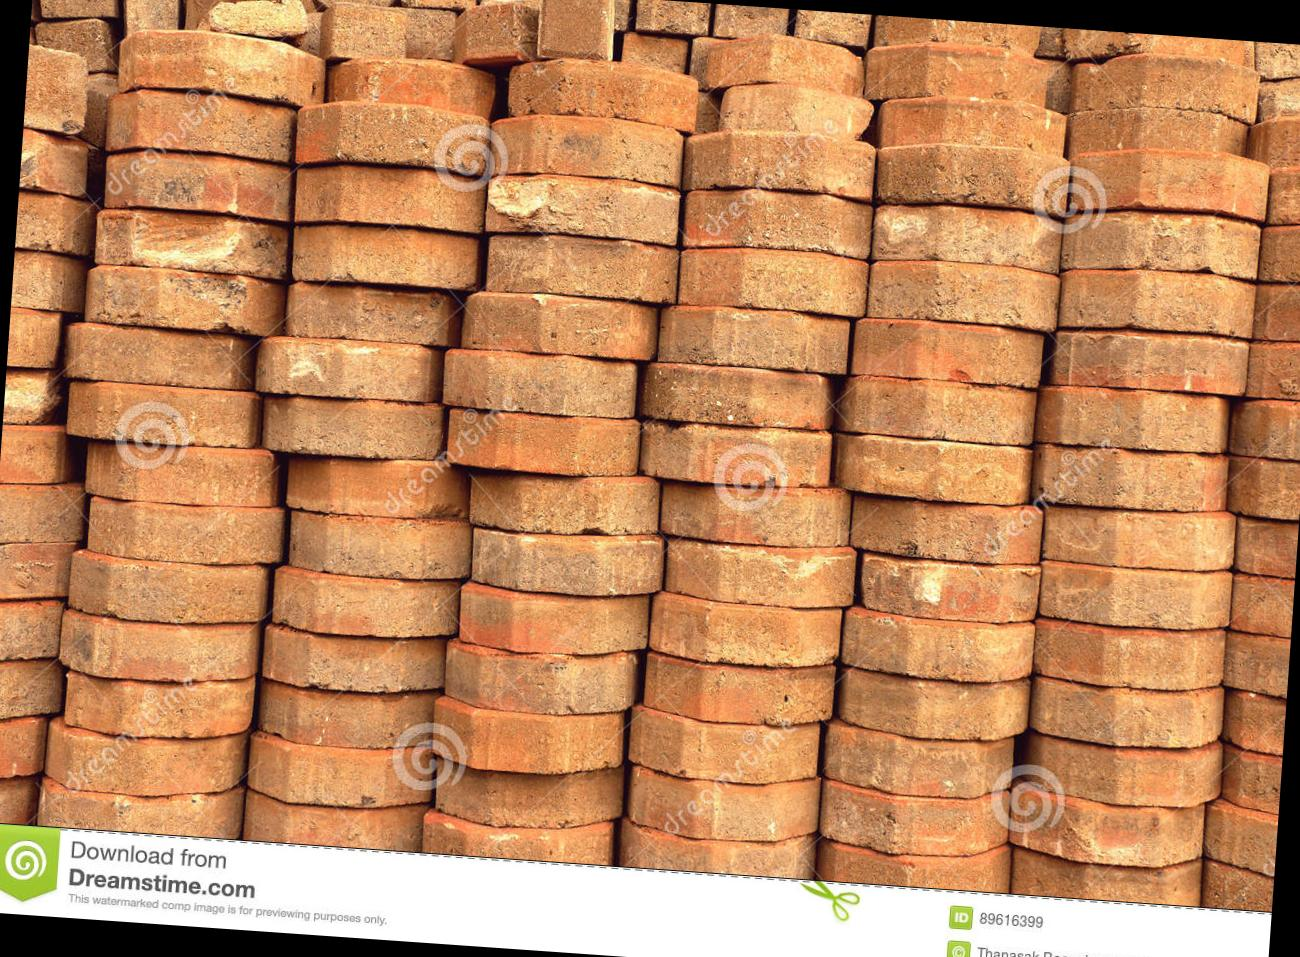brick: (1007, 779, 1206, 870), (117, 25, 326, 106), (1021, 728, 1223, 811), (1069, 140, 1271, 222), (44, 720, 246, 802), (58, 607, 258, 688), (68, 548, 269, 628), (840, 605, 1035, 686), (486, 108, 685, 188), (443, 638, 637, 720), (627, 705, 820, 786), (648, 590, 842, 670), (822, 720, 1014, 801), (818, 779, 1010, 860), (507, 54, 699, 134), (294, 97, 491, 176), (682, 123, 876, 203), (457, 580, 649, 660), (1030, 674, 1225, 752), (876, 138, 1071, 216), (64, 665, 255, 744), (628, 766, 820, 845), (432, 701, 626, 778), (469, 522, 665, 599), (664, 533, 857, 611), (1058, 262, 1256, 338), (87, 494, 285, 569), (246, 731, 433, 811), (849, 490, 1043, 566), (1061, 206, 1260, 281), (433, 756, 624, 834), (485, 170, 681, 245), (867, 256, 1060, 333), (270, 564, 460, 642), (643, 652, 835, 729), (839, 667, 1031, 744), (1032, 618, 1225, 694), (681, 184, 874, 259), (1043, 498, 1235, 573), (468, 464, 660, 540), (460, 288, 657, 361), (1051, 324, 1249, 397), (1031, 442, 1228, 515), (659, 475, 851, 550), (441, 346, 638, 419), (84, 263, 283, 335), (105, 87, 296, 162), (484, 230, 679, 303), (871, 200, 1063, 274), (294, 161, 485, 234), (1038, 559, 1231, 632), (94, 207, 290, 279), (841, 374, 1037, 445), (835, 433, 1031, 505), (850, 315, 1043, 388), (445, 408, 640, 480), (677, 243, 869, 316), (84, 437, 278, 509), (657, 302, 850, 374), (1037, 383, 1229, 454), (66, 378, 258, 449), (639, 419, 832, 490), (864, 38, 1049, 112), (1086, 46, 1261, 124), (286, 450, 470, 523), (288, 510, 472, 582), (103, 149, 293, 220), (291, 221, 479, 292), (642, 361, 833, 430), (262, 624, 445, 696), (261, 391, 442, 462), (859, 553, 1040, 625), (256, 681, 437, 753), (254, 333, 440, 403), (877, 90, 1067, 157), (37, 776, 242, 839), (65, 320, 250, 389), (1065, 102, 1249, 169), (618, 818, 816, 878), (817, 832, 1012, 892), (284, 281, 456, 347), (243, 789, 425, 852), (1011, 846, 1202, 906), (703, 28, 866, 98), (327, 52, 496, 119), (422, 809, 615, 866), (719, 80, 874, 140), (534, 0, 616, 63), (329, 1, 407, 60)
